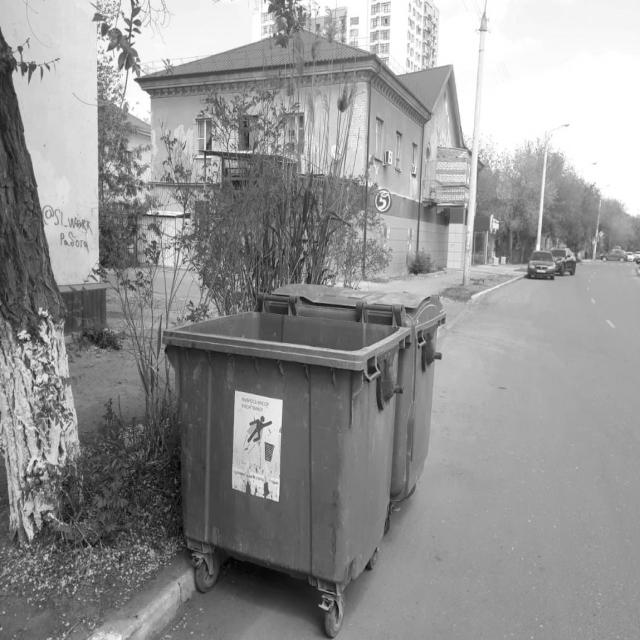Trashcan: (152, 293, 416, 639), (260, 258, 447, 516)
